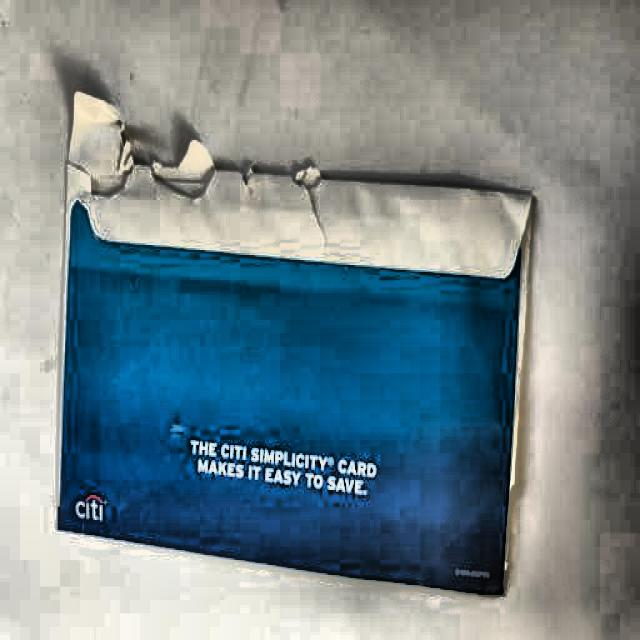paper: (61, 87, 528, 610)
